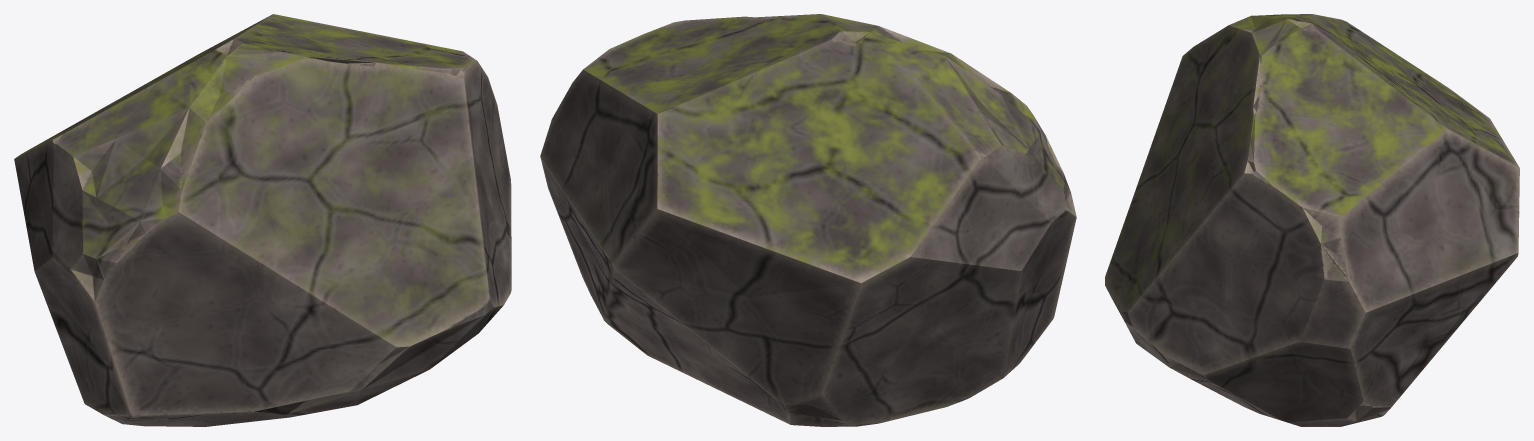
The model's file is Stone_Pickup.fbx.
3 renders of one model, left to right at view 1: azimuth 30°, elevation 25°; view 2: azimuth 150°, elevation 25°; view 3: azimuth 270°, elevation 25°, orthographic. The views are drawn at different scales.
Visible parts, largest first — view 1: Stone_Pickup; view 2: Stone_Pickup; view 3: Stone_Pickup.
Part boxes in pixels (x1=…): Stone_Pickup: x1=14, y1=14, x2=511, y2=426; Stone_Pickup: x1=540, y1=14, x2=1076, y2=426; Stone_Pickup: x1=1105, y1=14, x2=1519, y2=426.
Bounding box in the file's own units: 0.3022 × 0.2046 × 0.2427.
